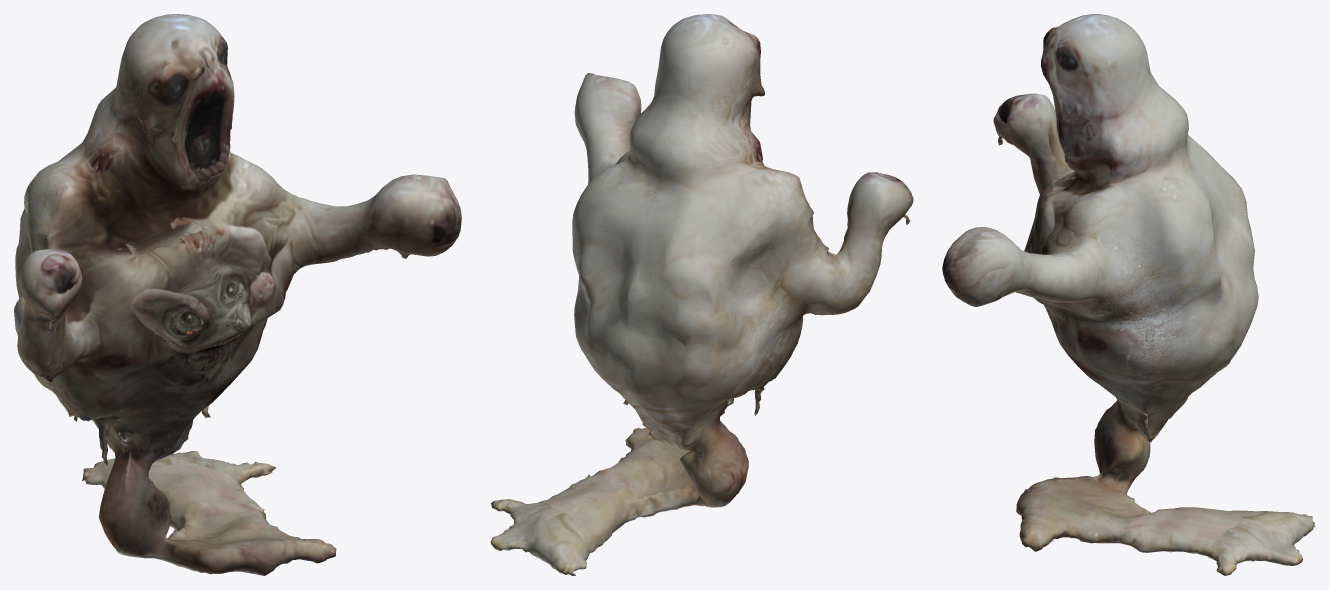
The model's file is FleshWraith_0727092101.fbx.
3 views of the same model, side by side, from view 1: azimuth 30°, elevation 25°; view 2: azimuth 150°, elevation 25°; view 3: azimuth 270°, elevation 25° (orthographic). The views are drawn at different scales.
Visible parts, largest first — view 1: Mesh_0; view 2: Mesh_0; view 3: Mesh_0.
Boxes of the visible parts, left/top/right/bottom form: Mesh_0: left=14, top=14, right=461, bottom=575; Mesh_0: left=490, top=14, right=913, bottom=575; Mesh_0: left=942, top=14, right=1315, bottom=575.
Bounding box in the file's own units: 89.46 × 120 × 80.94.
Materials: 1 (1 with a texture image).
